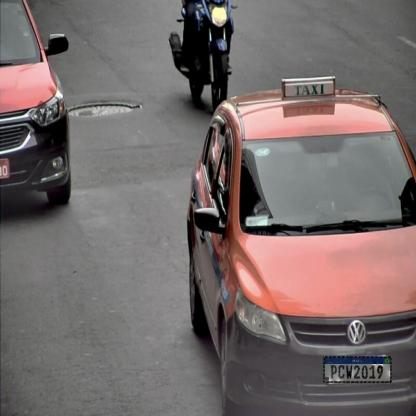PlacaM: (324, 356, 392, 383)
